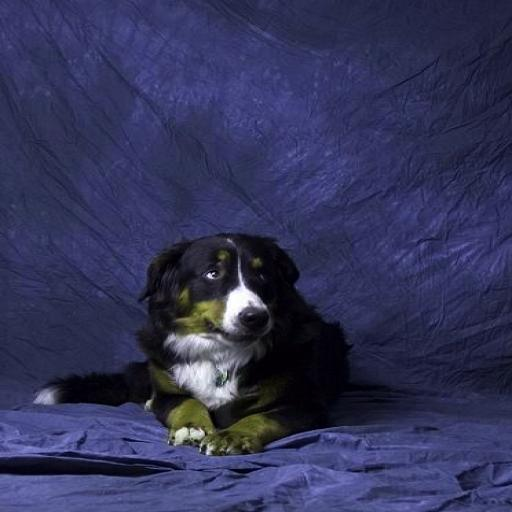dog_face: (160, 232, 300, 339)
